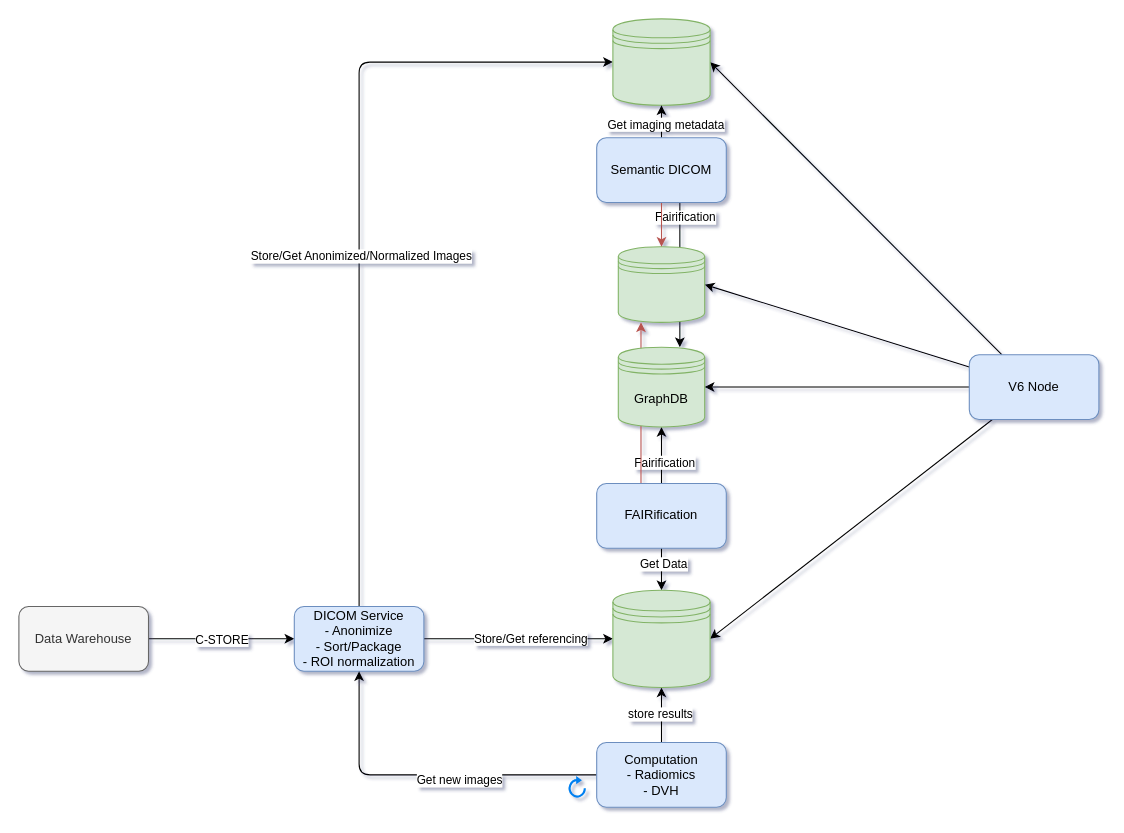
This 1124x833 diagram has some shape labels left out. The centre of each missing label's shape, as x and y in pixels:
"OMOP" goes at [661,284].
"PostGreSQL" goes at [661,638].
"XNAT - automated NIFTI workflow" goes at [661,61].
